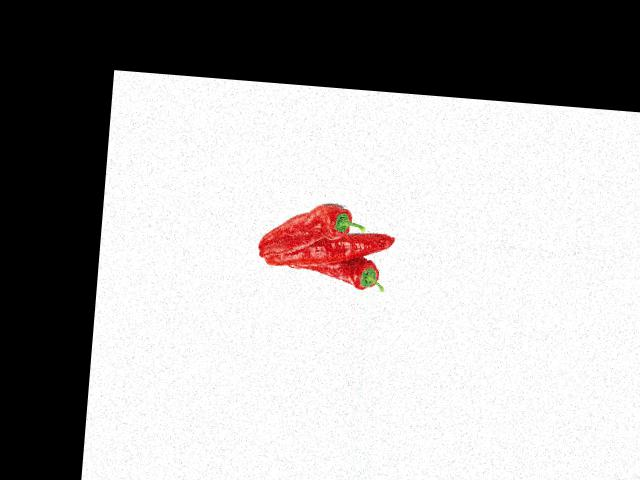bell_pepper: (257, 195, 370, 253)
